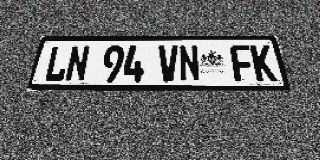4: (123, 45, 145, 82)
9: (101, 45, 125, 82)
F: (230, 45, 256, 82)
K: (250, 45, 278, 82)
L: (43, 45, 71, 82)
N: (64, 45, 90, 82), (178, 45, 201, 82)
V: (158, 45, 179, 82)
